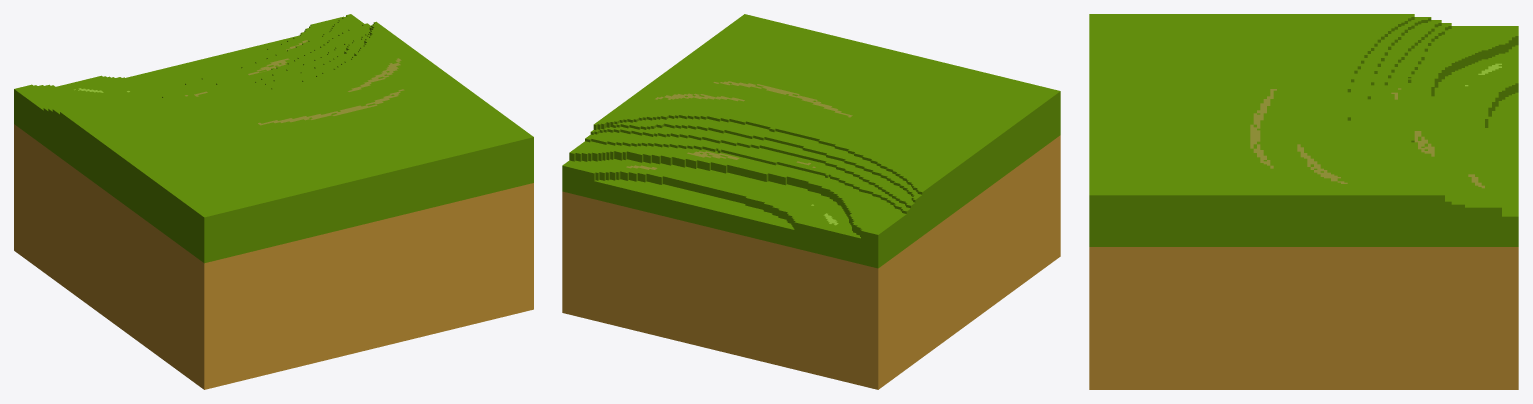
3 views of the same model, side by side, from view 1: azimuth 30°, elevation 25°; view 2: azimuth 150°, elevation 25°; view 3: azimuth 270°, elevation 25° (orthographic). The views are drawn at different scales.
Visible parts, largest first — view 1: 13F; view 2: 13F; view 3: 13F.
Boxes of the visible parts, x1,y1,x2,y2 form: 13F: (14,14,533,389); 13F: (562,14,1060,389); 13F: (1089,14,1518,389).
Size of the model in its own units: 12.8 by 6.4 by 12.8.
1 material, 1 textured.
